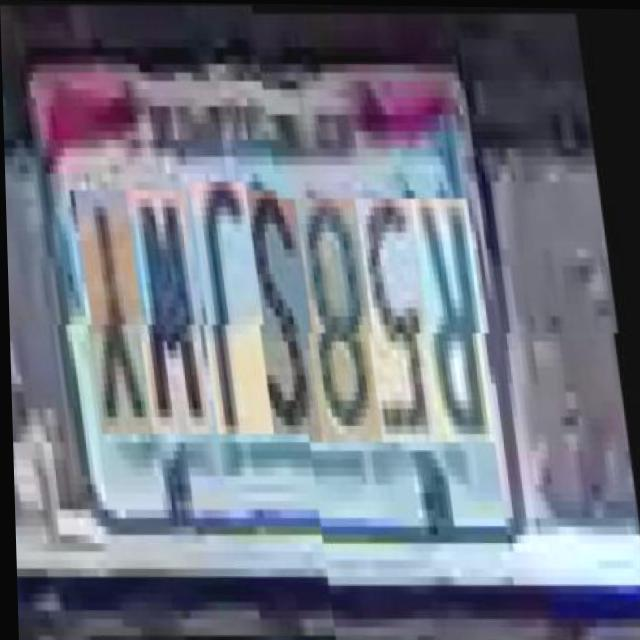5: (358, 188, 440, 433)
8: (299, 187, 383, 432)
j: (193, 179, 276, 433)
r: (414, 187, 495, 433)
s: (242, 188, 323, 433)
w: (131, 187, 216, 434)
y: (79, 188, 156, 433)
